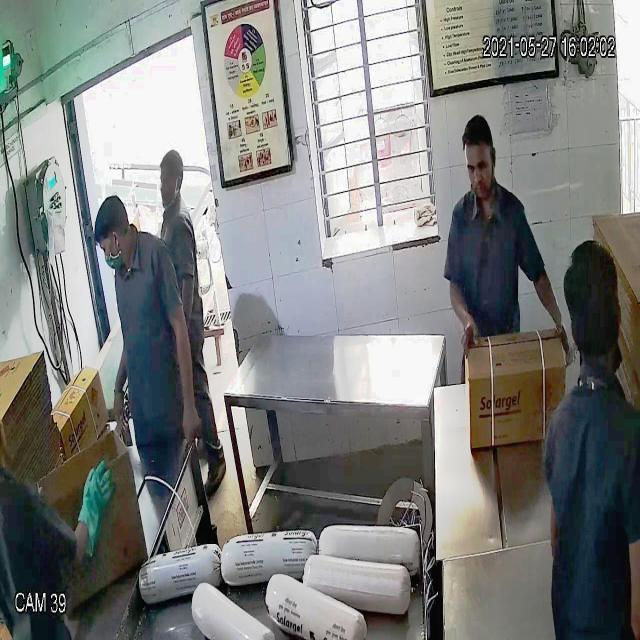hairnet: (100, 241, 130, 277), (158, 178, 180, 216)
